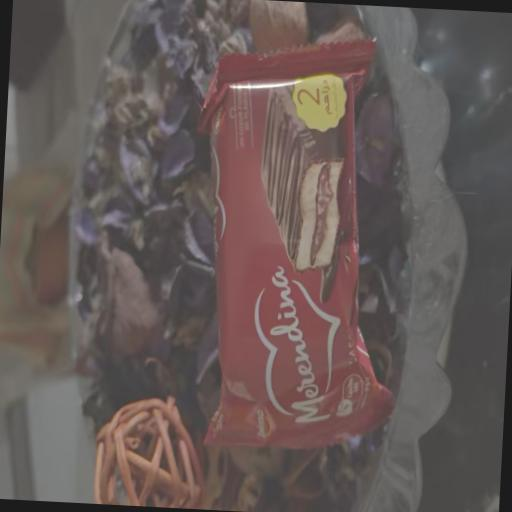merendina: (163, 20, 438, 486)
